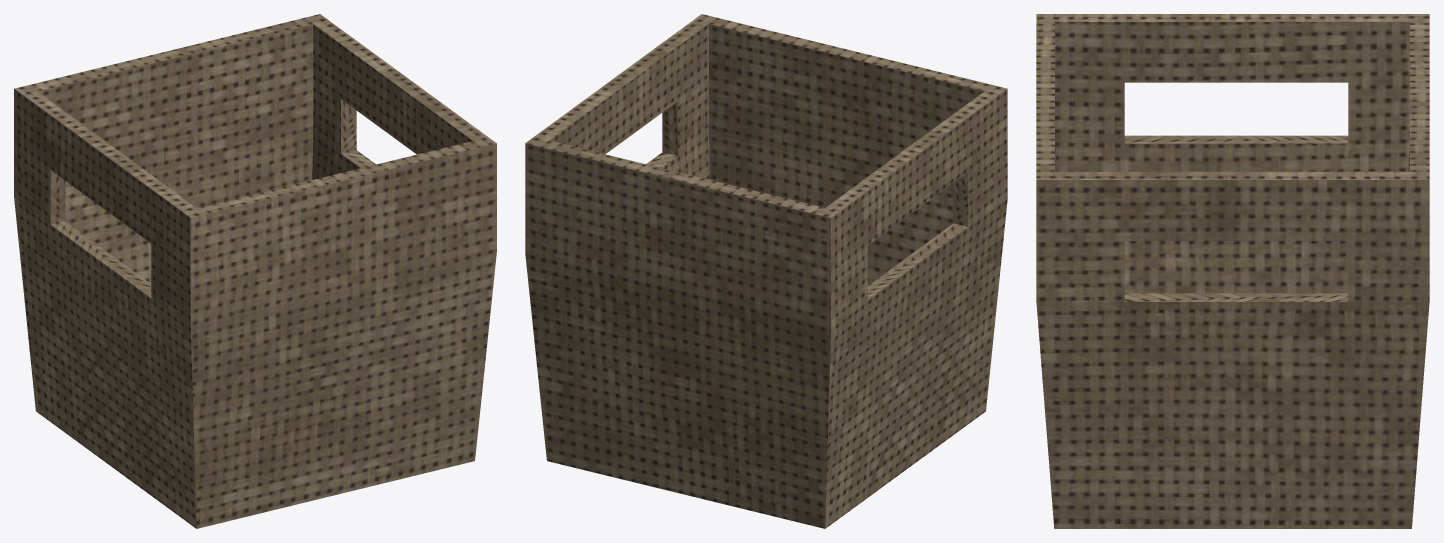
The model's file is Cesta.fbx.
3 views of the same model, side by side, from view 1: azimuth 30°, elevation 25°; view 2: azimuth 150°, elevation 25°; view 3: azimuth 270°, elevation 25° (orthographic). The views are drawn at different scales.
Parts seen in each view (by area): view 1: Cube; view 2: Cube; view 3: Cube.
Part boxes in pixels (bbox=[...]): Cube: bbox=[14, 14, 496, 528]; Cube: bbox=[525, 14, 1007, 528]; Cube: bbox=[1036, 14, 1429, 528].
Size of the model in its own units: 302 by 302 by 302.
1 material, 1 textured.
